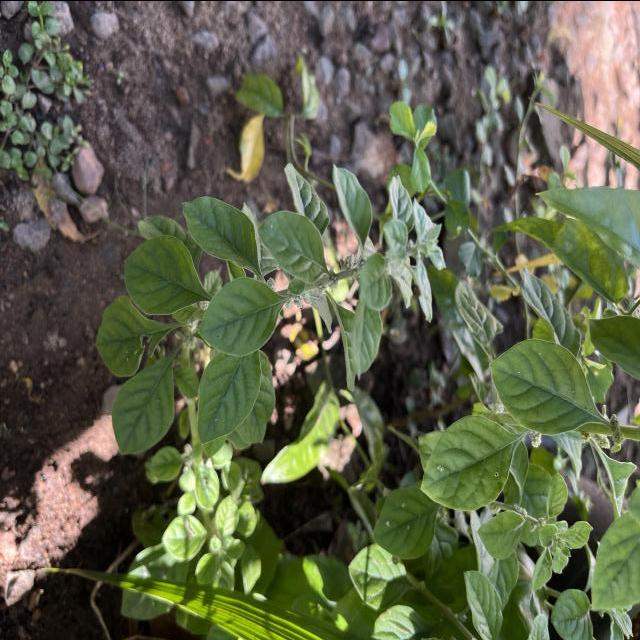Aerva lanata: (197, 273, 287, 358), (123, 232, 210, 317), (180, 192, 264, 278), (196, 349, 264, 446)
